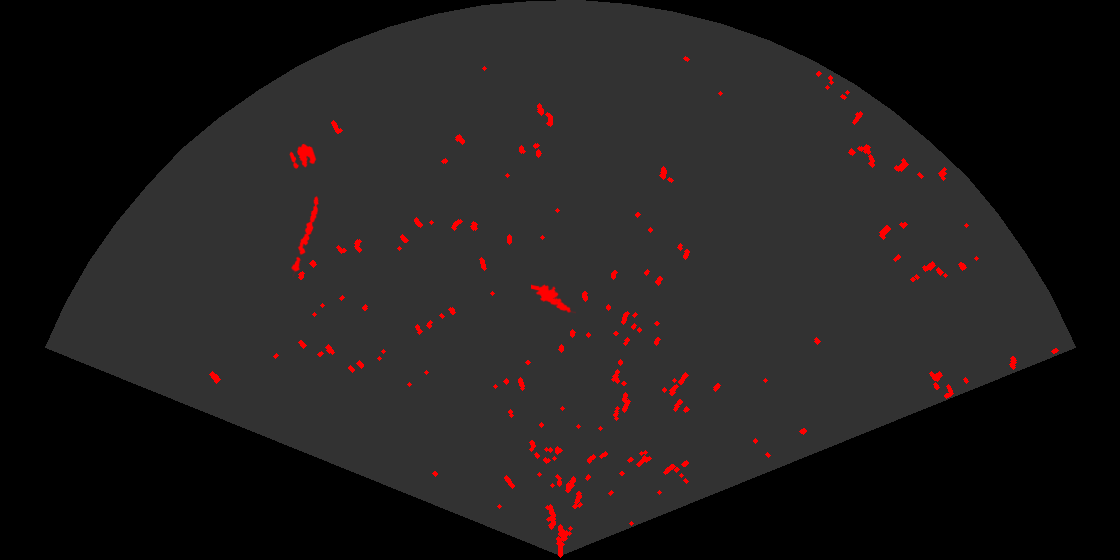ball: (288, 142, 318, 171)
chain: (290, 194, 320, 277)
frogman: (531, 283, 576, 314)
